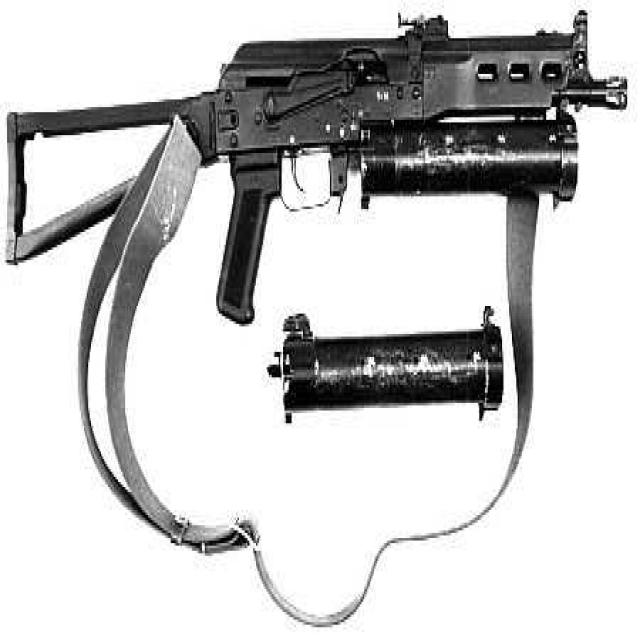Rifle: (0, 5, 633, 275)
